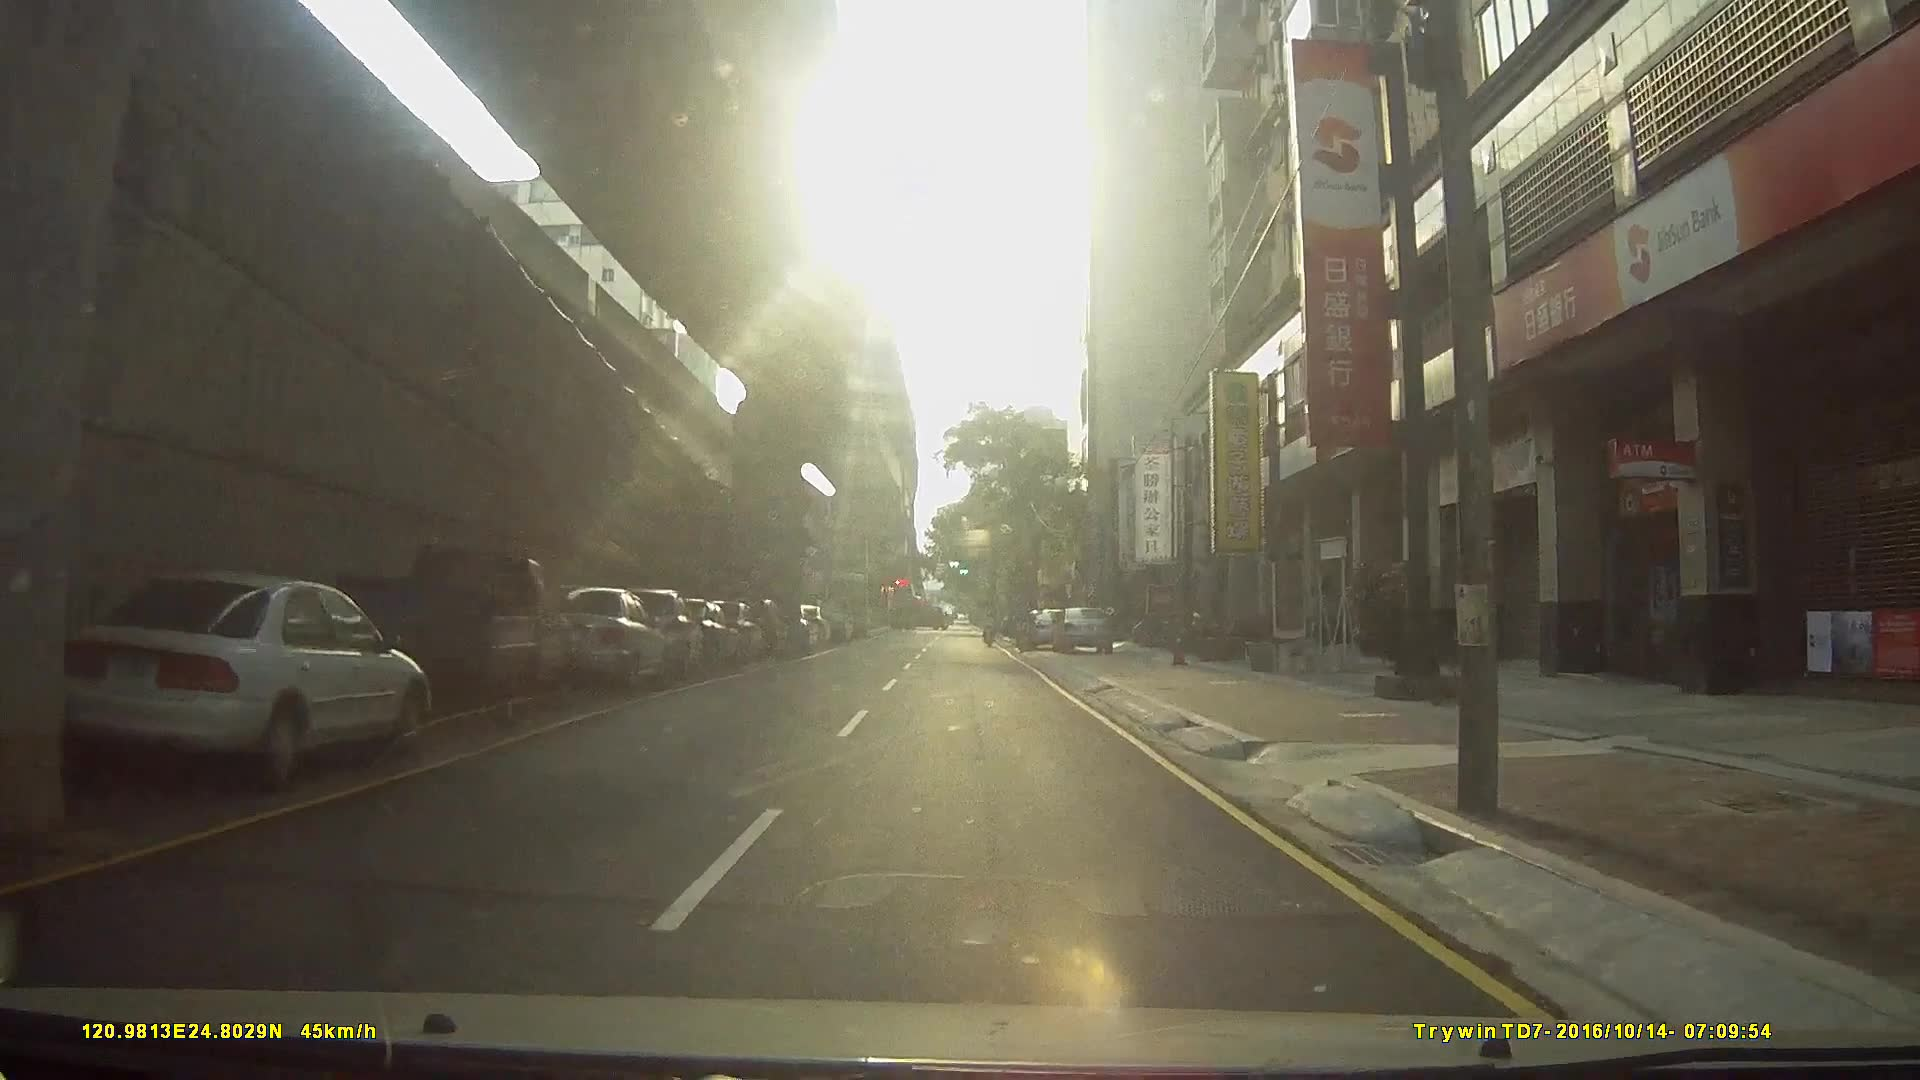vehicle: (47, 574, 429, 795), (328, 543, 574, 720), (520, 585, 669, 700), (597, 612, 729, 700), (659, 620, 794, 670), (1048, 603, 1116, 653)
